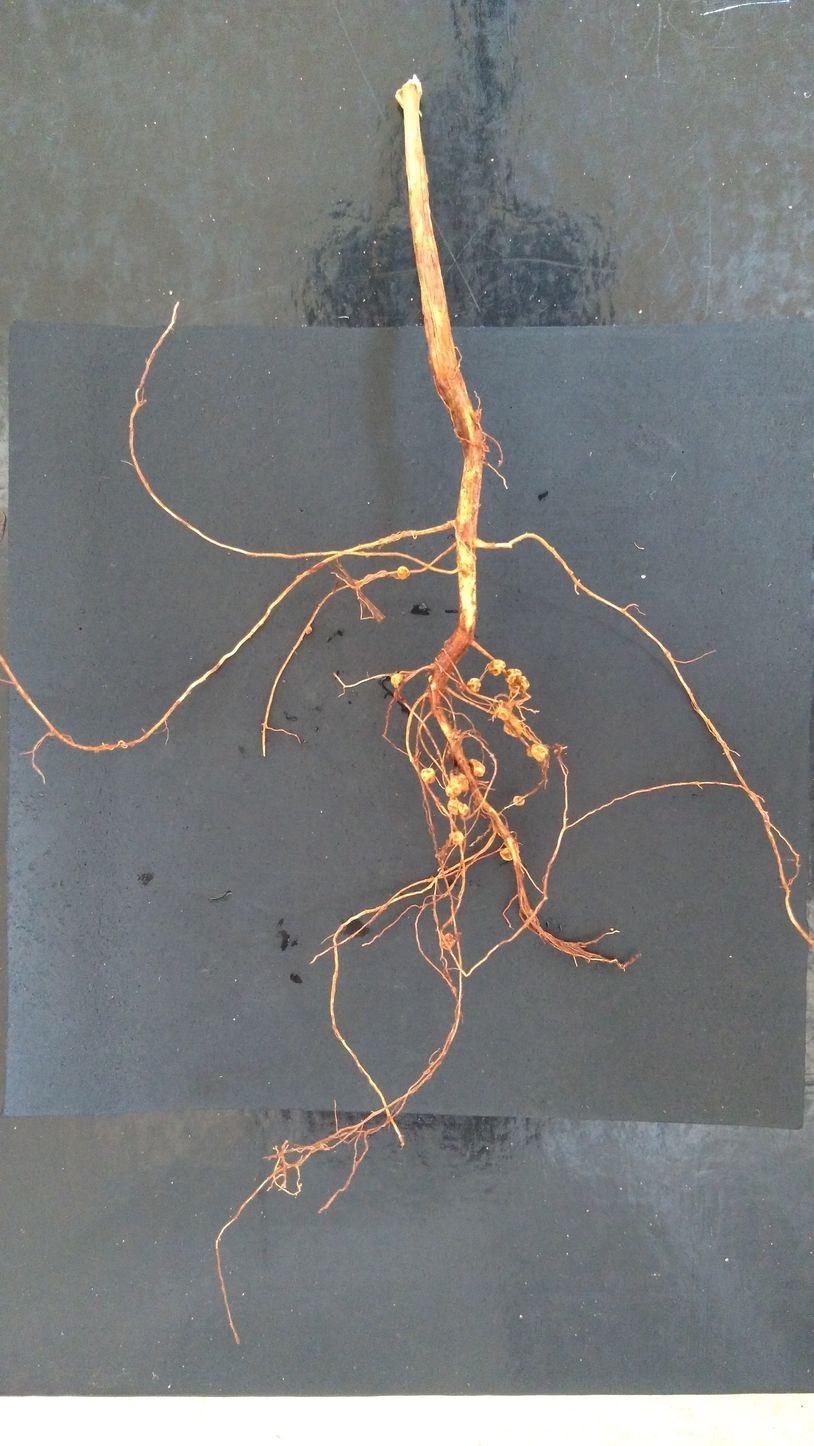nodule: (502, 715, 524, 739), (466, 757, 488, 779), (508, 674, 531, 695), (486, 657, 507, 677), (449, 772, 470, 792), (530, 743, 549, 763), (505, 667, 523, 686), (419, 767, 437, 786), (439, 932, 457, 951), (465, 676, 482, 693), (444, 782, 462, 798), (446, 799, 462, 817), (449, 830, 465, 846), (396, 564, 411, 581), (498, 846, 514, 861), (390, 672, 404, 688), (469, 408, 483, 424), (495, 709, 510, 722), (457, 801, 469, 817), (512, 794, 526, 807), (305, 625, 313, 635)
